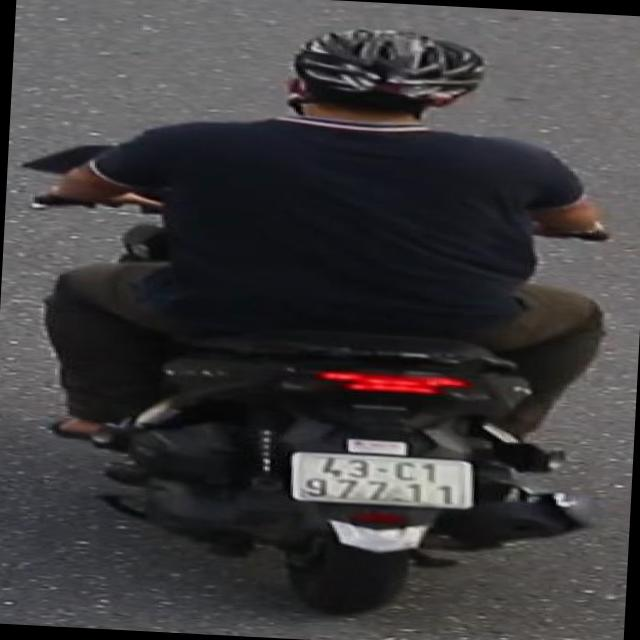LP: (287, 448, 478, 514)
helmet: (265, 18, 501, 150)
